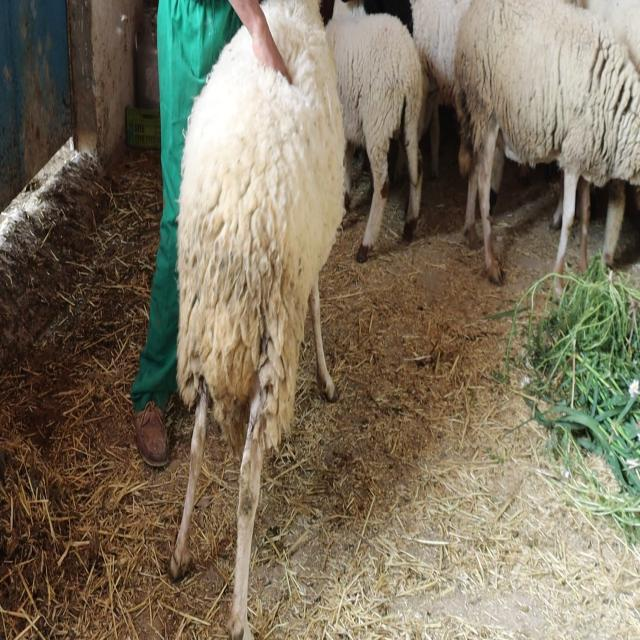Score_5: (171, 0, 345, 639)
